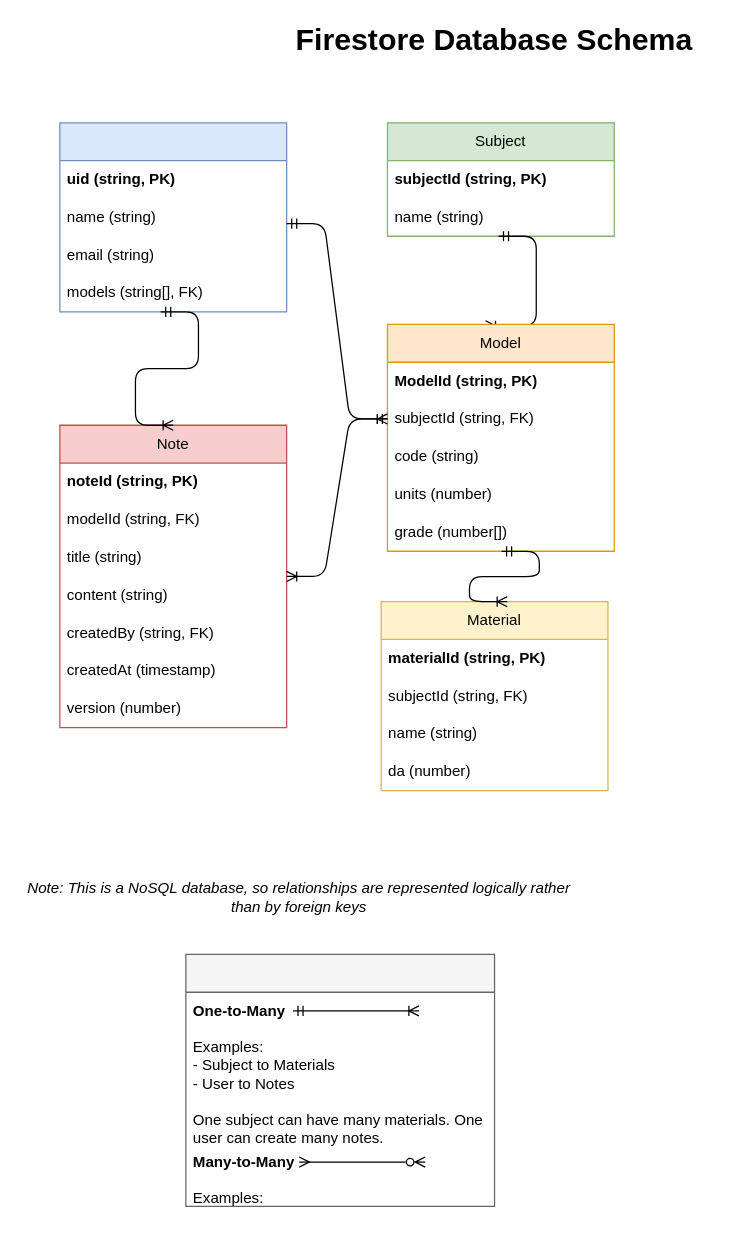
Some shapes in this 748 by 1246 pixel diagram are drawn without their labels. The box of each missing label's shape, as (x1, y1, x2, y2) in pixels:
Relationship Types Legend: (185, 953, 495, 1206)
User: (59, 122, 287, 312)
